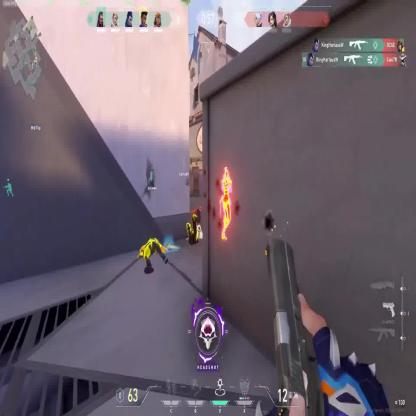enemy: (218, 167, 233, 239)
enemy_head: (224, 168, 229, 179)
